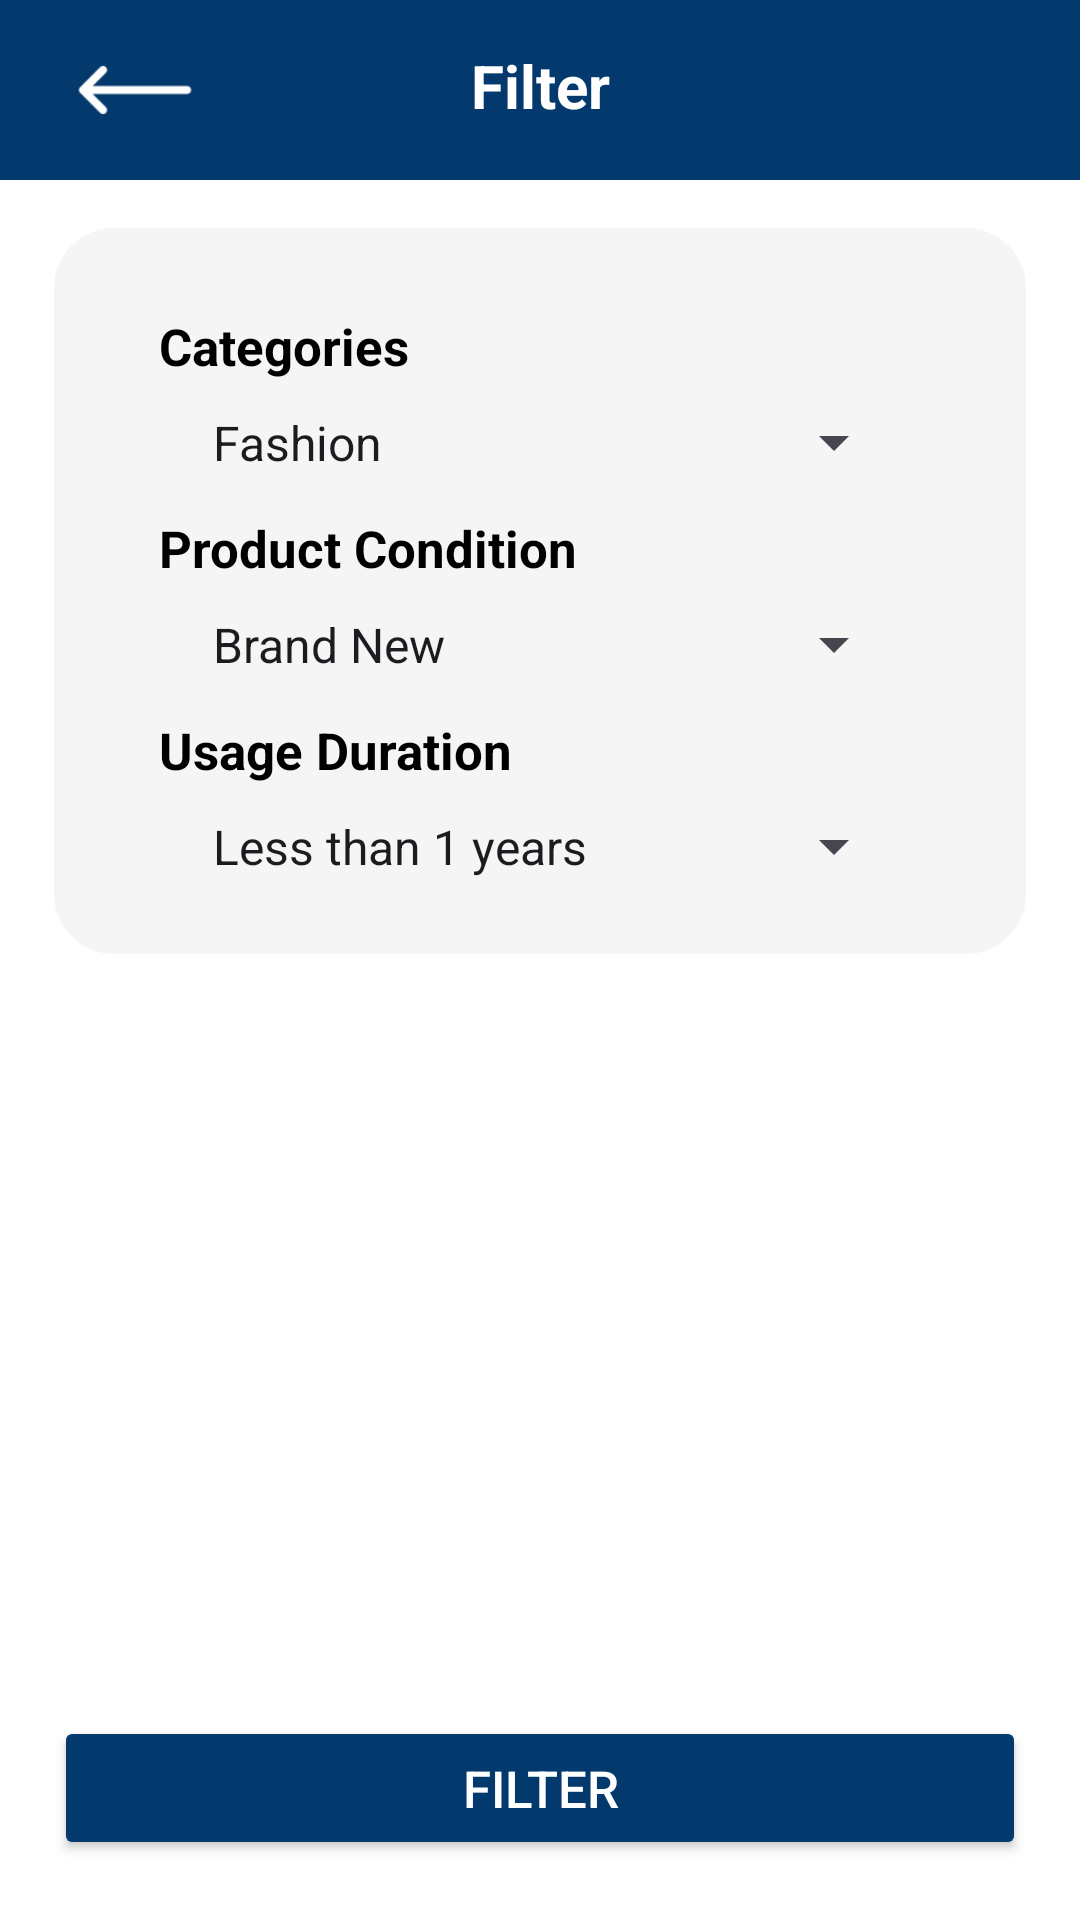

Where to tap for icons on this 1080px x 1920px app screen, as point (x, y):
back arrow: point (135, 90)
